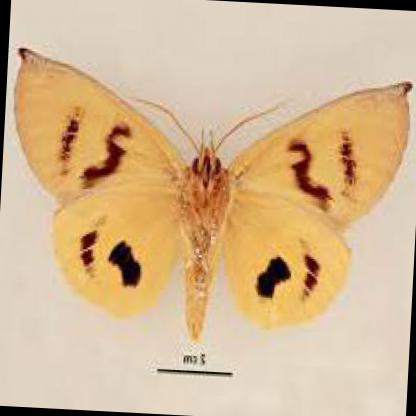fruit sucking moth: (13, 52, 412, 341)
